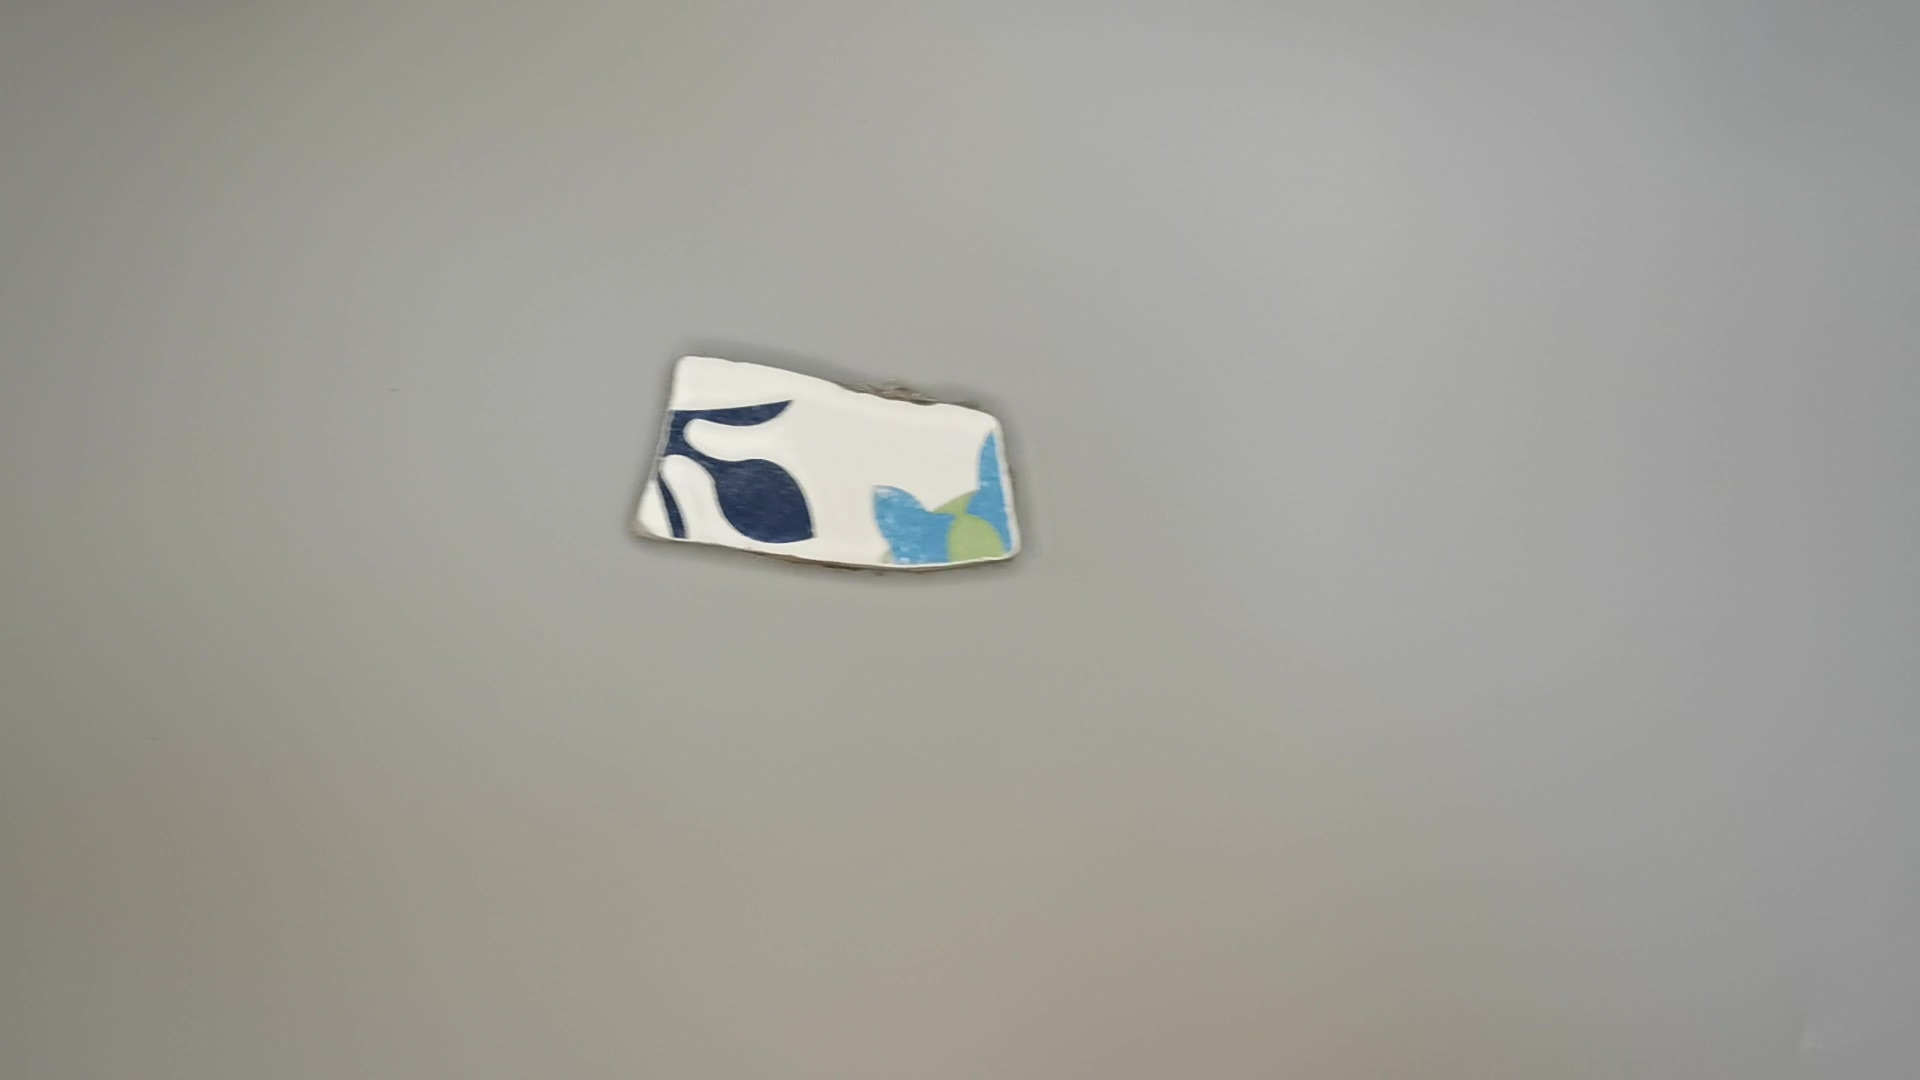ceramic: (615, 349, 1033, 589)
